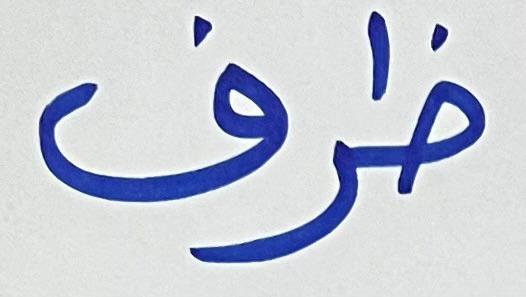feh: (36, 16, 291, 208)
reh: (294, 124, 363, 257)
zah: (365, 8, 489, 195)
